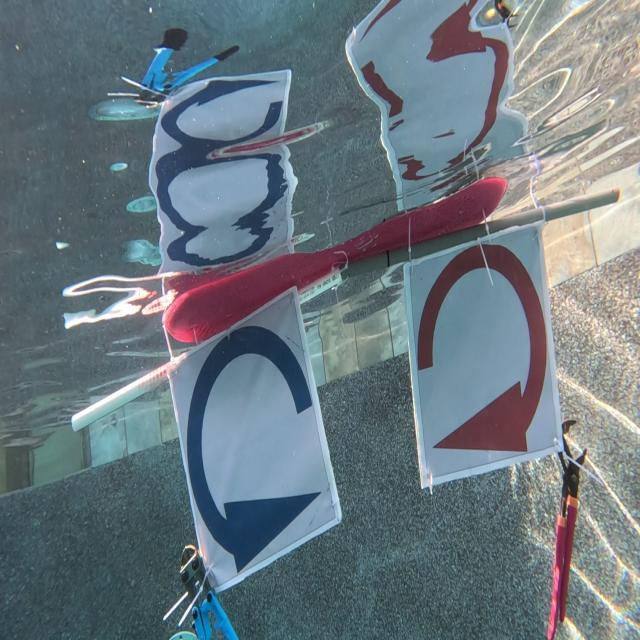blue_side: (191, 328, 316, 572)
red_side: (414, 238, 546, 467)
